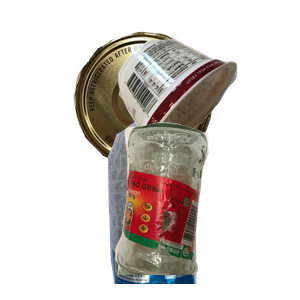glass: (112, 120, 300, 300)
metal: (71, 29, 276, 193)
plastic: (96, 120, 285, 300)
trash: (116, 36, 300, 187)
